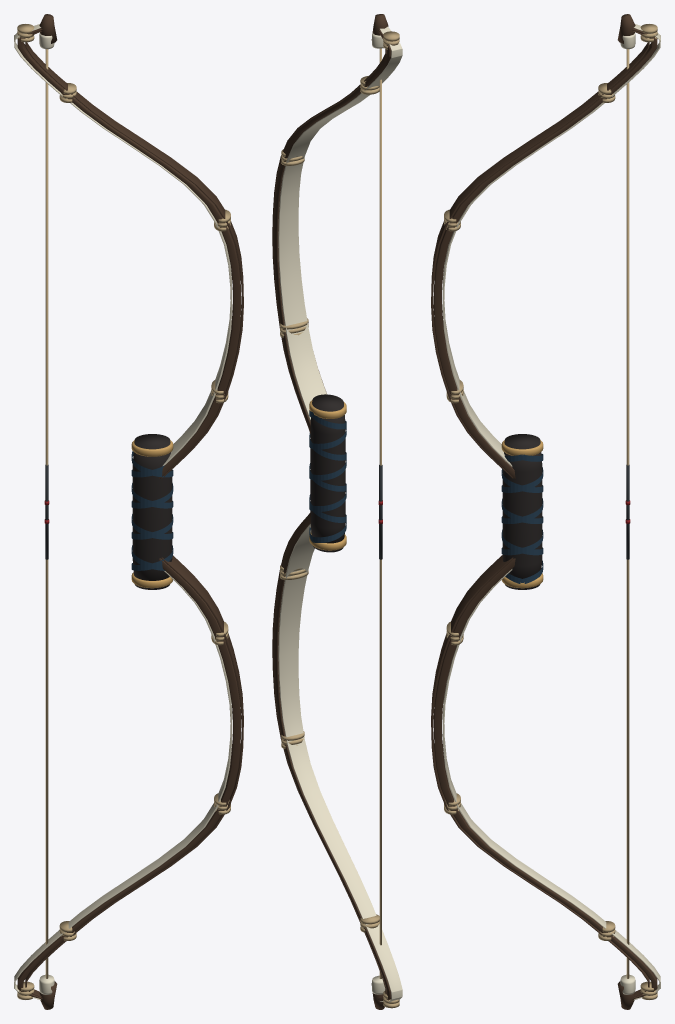
The model's file is weapon_joseon_gakgung.glb.
The picture shows the model from 3 angles, left to right: view 1: azimuth 90°, elevation 25°; view 2: azimuth 210°, elevation 25°; view 3: azimuth 270°, elevation 25°; orthographic projection.
Visible parts, largest first — view 1: Authored_joseon_gakgung; view 2: Authored_joseon_gakgung; view 3: Authored_joseon_gakgung.
Part boxes in pixels (box(x1,y1,x2,y2)): Authored_joseon_gakgung: box(14, 14, 243, 1009); Authored_joseon_gakgung: box(272, 14, 402, 1009); Authored_joseon_gakgung: box(431, 14, 660, 1009).
Bounding box in the file's own units: 0.038 × 1.16 × 0.244.
